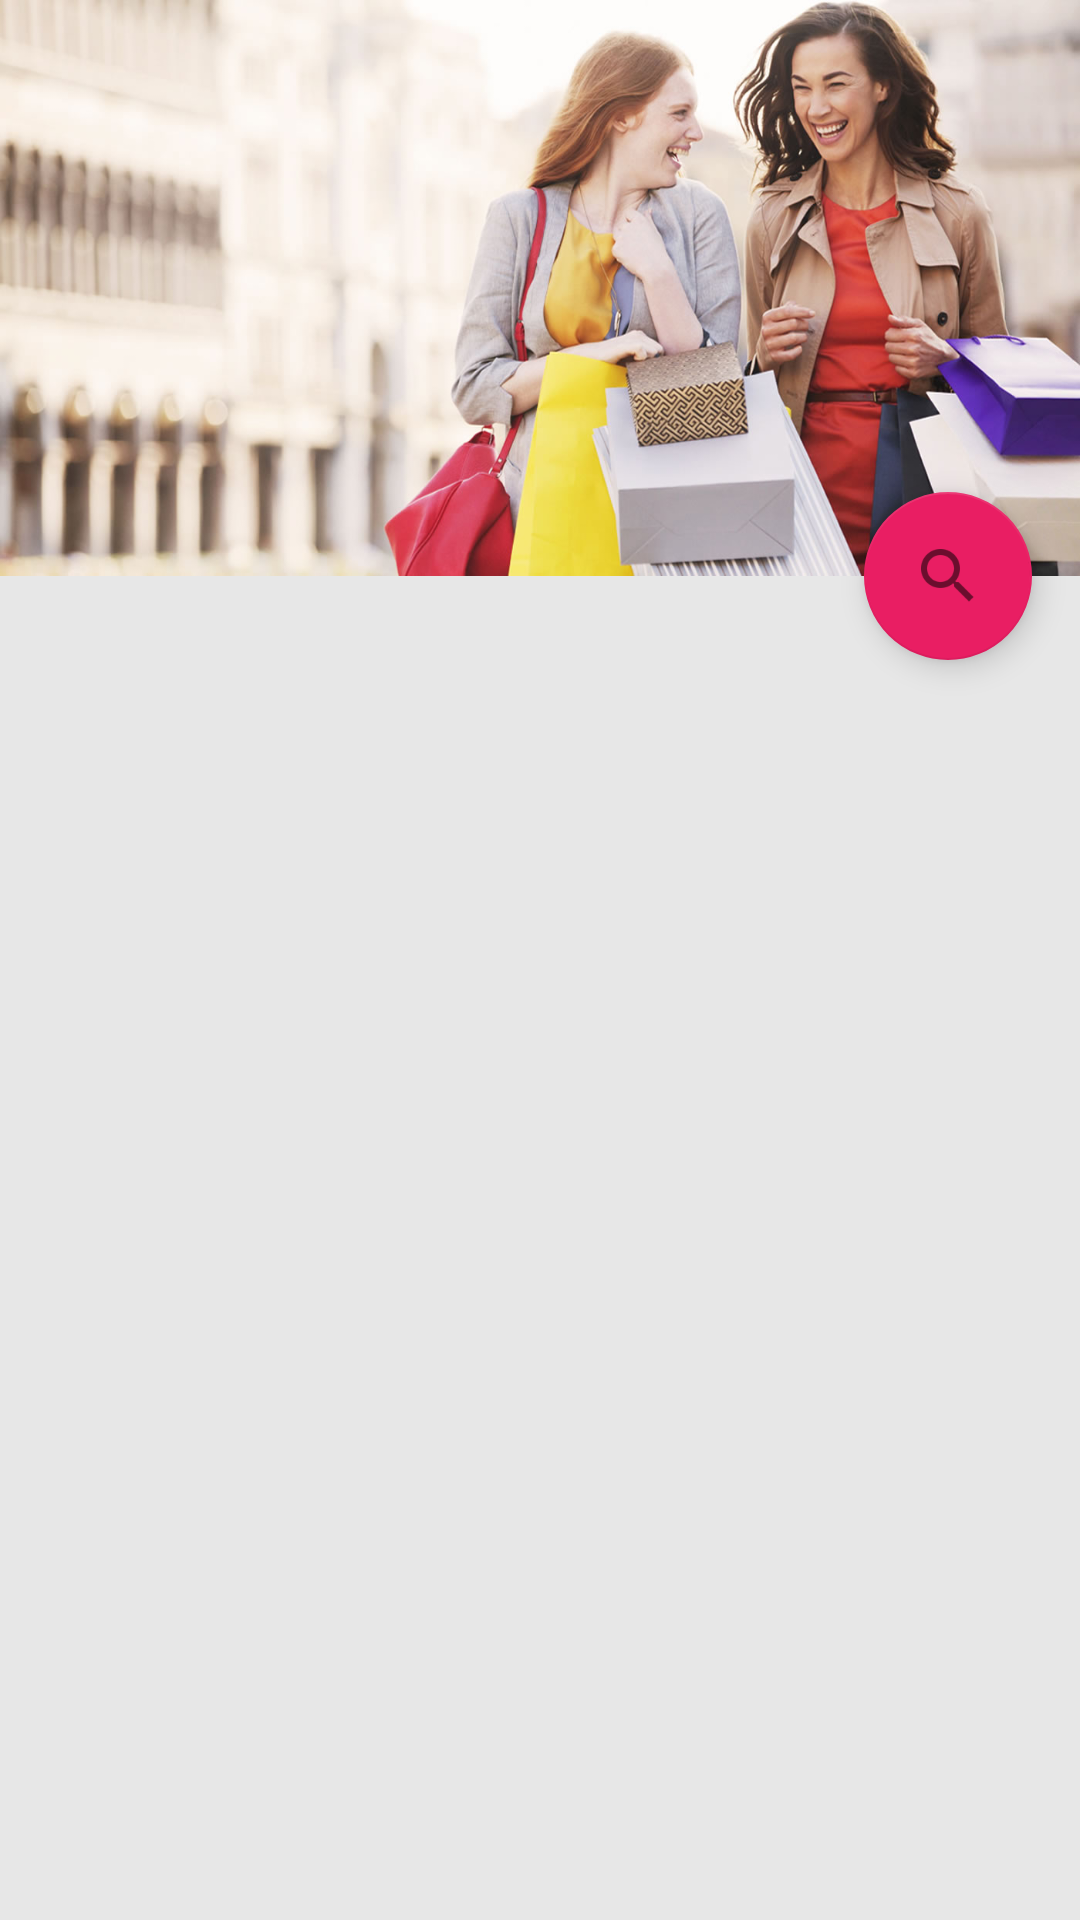

Where to tap for icons on this 1080w x 1920h app screen, as (x,y):
search: (948,576)
